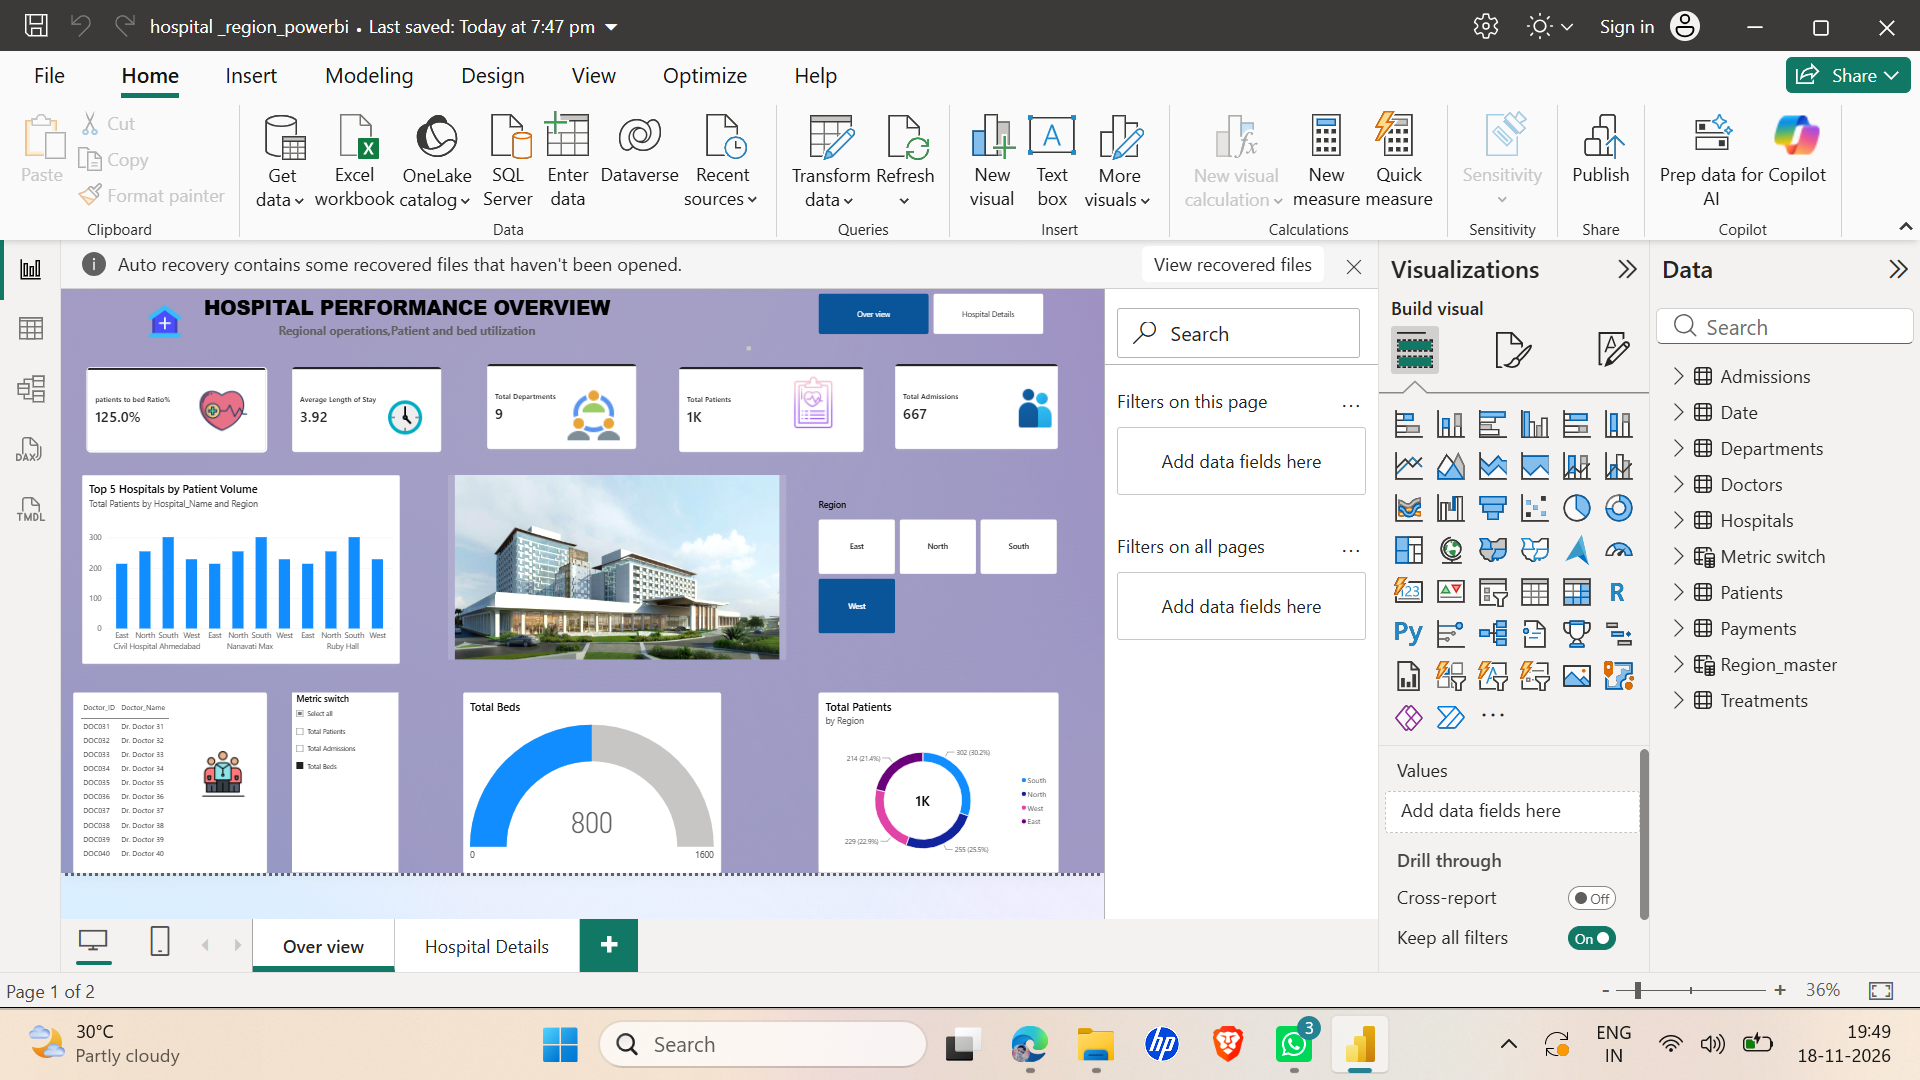

The page's visual inventory and layout, read from the dashboard file:
{"tool":"powerbi","page":{"name":"Over view","canvas":[1920,1080],"ordinal":0},"visuals":[{"type":"cardVisual","fields":{"Data":["Patients.Total Patients"]},"box":[1137.6,149.1,340,157.5],"z":0},{"type":"cardVisual","fields":{"Data":["Admissions.Total Admissions"]},"box":[1535.3,143.6,300,157.5],"z":1000},{"type":"cardVisual","fields":{"Data":["Departments.Total Departments"]},"box":[784.2,143.6,275,157.5],"z":2000},{"type":"cardVisual","fields":{"Data":["Admissions.Average Length of Stay"]},"box":[425.2,149.1,275,157.5],"z":3000},{"type":"advancedSlicerVisual","fields":{"Values":["Hospitals.Region"]},"box":[1394.4,392.1,441.8,248.5],"z":4000},{"type":"tableEx","fields":{"Values":["Doctors.Doctor_ID","Doctors.Doctor_Name"]},"box":[22.5,747.5,357.5,332.5],"z":5000},{"type":"gauge","fields":{"Y":["Hospitals.Total Beds"]},"box":[740,748.3,475,332.5],"z":6000},{"type":"columnChart","title":"Top 5 Hospitals by Patient Volume","fields":{"Category":["Hospitals.Hospital_Name","Patients.Region"],"Y":["Patients.Total Patients"]},"box":[38.7,347.9,585.4,347.9],"z":8000},{"type":"cardVisual","title":"Bed Occupancy Rate","fields":{"Data":["Admissions.bed occupancy rate"]},"box":[46.9,149.1,332.5,157.5],"z":9000},{"type":"slicer","fields":{"Values":["Metric switch .Metric switch "]},"box":[425.2,748.3,196.1,331.4],"z":10000},{"type":"pageNavigator","box":[1394.4,13.8,415,75],"z":11000},{"type":"image","box":[712.4,347.9,622.5,340],"z":12000},{"type":"image","box":[251.3,168.4,95,122.5],"z":13000},{"type":"image","box":[1330.9,162.9,107.5,102.5],"z":14000},{"type":"image","box":[250,850,95,95],"z":15000},{"type":"image","box":[1750.7,182.2,85,85],"z":16000},{"type":"image","box":[579.9,204.3,107.5,75],"z":17000},{"type":"image","box":[922.3,187.8,115,102.5],"z":18000},{"type":"textbox","title":"HOSPITAL PERFORMANCE OVERVIEW","box":[2.5,15,1267.5,105],"z":19000},{"type":"image","box":[132.5,25,117.5,82.5],"z":20000},{"type":"donutChart","fields":{"Category":["Patients.Region"],"Y":["Patients.Total Patients"]},"box":[1394,748,442,332],"z":20001}]}

Visuals, with their boxes on the page's 1920x1080 design canvas (x1, y1, x2, y2). These are canvas units, not pixel positions in the 1920x1080 screenshot, which may show the page scaled, cropped or inside an application window:
cardVisual - Patients.Total Patients: pyautogui.locateOnScreen(1138, 149, 1478, 307)
cardVisual - Admissions.Total Admissions: pyautogui.locateOnScreen(1535, 144, 1835, 301)
cardVisual - Departments.Total Departments: pyautogui.locateOnScreen(784, 144, 1059, 301)
cardVisual - Admissions.Average Length of Stay: pyautogui.locateOnScreen(425, 149, 700, 307)
advancedSlicerVisual - Hospitals.Region: pyautogui.locateOnScreen(1394, 392, 1836, 641)
tableEx - Doctors.Doctor_ID x Doctors.Doctor_Name: pyautogui.locateOnScreen(22, 748, 380, 1080)
gauge - Hospitals.Total Beds: pyautogui.locateOnScreen(740, 748, 1215, 1081)
"Top 5 Hospitals by Patient Volume" columnChart: pyautogui.locateOnScreen(39, 348, 624, 696)
"Bed Occupancy Rate" cardVisual: pyautogui.locateOnScreen(47, 149, 379, 307)
slicer - Metric switch .Metric switch : pyautogui.locateOnScreen(425, 748, 621, 1080)
pageNavigator: pyautogui.locateOnScreen(1394, 14, 1809, 89)
image: pyautogui.locateOnScreen(712, 348, 1335, 688)
image: pyautogui.locateOnScreen(251, 168, 346, 291)
image: pyautogui.locateOnScreen(1331, 163, 1438, 265)
image: pyautogui.locateOnScreen(250, 850, 345, 945)
image: pyautogui.locateOnScreen(1751, 182, 1836, 267)
image: pyautogui.locateOnScreen(580, 204, 687, 279)
image: pyautogui.locateOnScreen(922, 188, 1037, 290)
"HOSPITAL PERFORMANCE OVERVIEW" textbox: pyautogui.locateOnScreen(2, 15, 1270, 120)
image: pyautogui.locateOnScreen(132, 25, 250, 108)
donutChart - Patients.Region x Patients.Total Patients: pyautogui.locateOnScreen(1394, 748, 1836, 1080)
